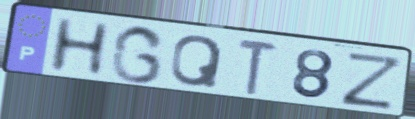8: (291, 48, 336, 101)
G: (108, 23, 168, 85)
H: (45, 15, 114, 77)
Q: (168, 33, 226, 90)
T: (235, 36, 281, 98)
Z: (338, 49, 407, 112)
